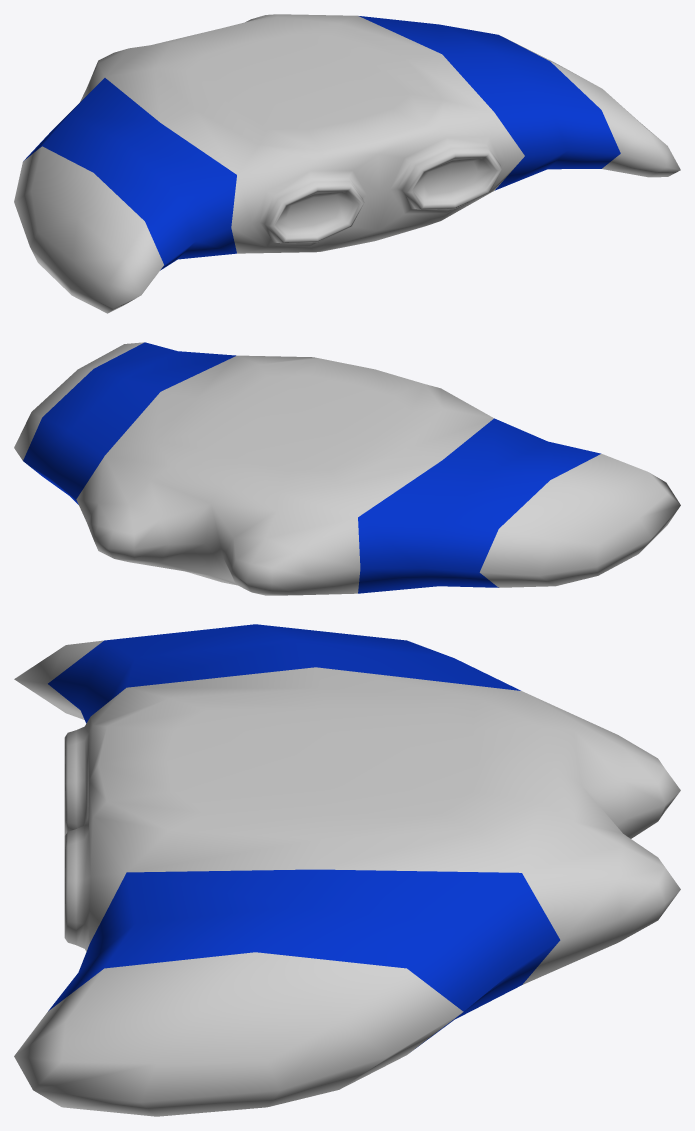
Rendered from ship.obj.
The picture shows the model from 3 angles, top to bottom: view 1: azimuth 30°, elevation 25°; view 2: azimuth 150°, elevation 25°; view 3: azimuth 270°, elevation 25°; orthographic projection. The views are drawn at different scales.
Parts seen in each view (by area): view 1: Cube; view 2: Cube; view 3: Cube.
Part boxes in pixels (x1=…): Cube: x1=14, y1=14, x2=680, y2=313; Cube: x1=14, y1=342, x2=680, y2=595; Cube: x1=14, y1=624, x2=680, y2=1116.
Size of the model in its own units: 4.22 by 0.7501 by 2.85.
